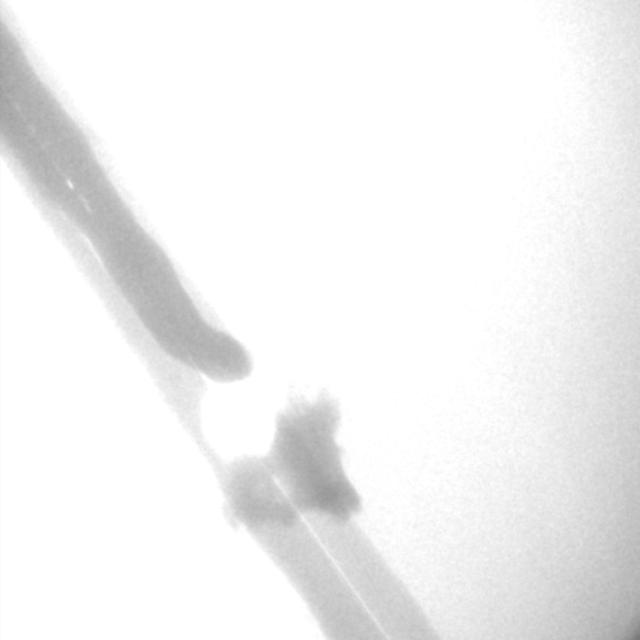air hole: (66, 177, 74, 190)
broken arc: (197, 369, 388, 636)
